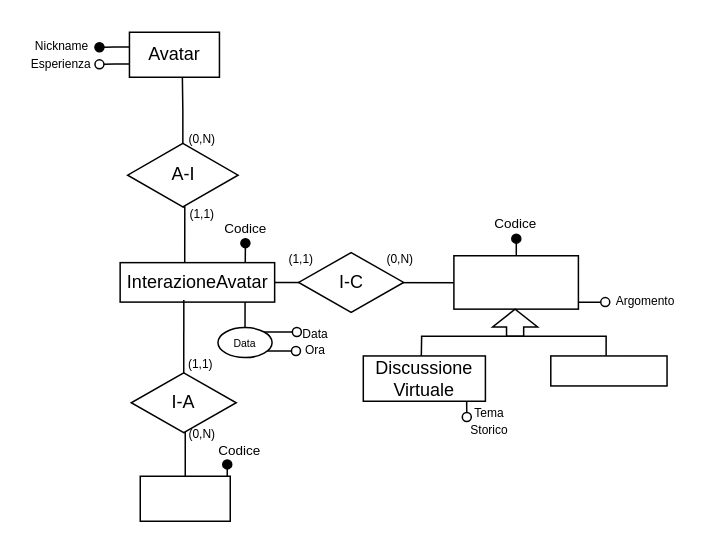
This 702x548 diagram has some shape labels left out. The centre of each missing label's shape, as x and y in pixels:
"Azione" belongs at [184,498].
"Conversazione" belongs at [515,281].
"NuovaTeoria" belongs at [608,370].
